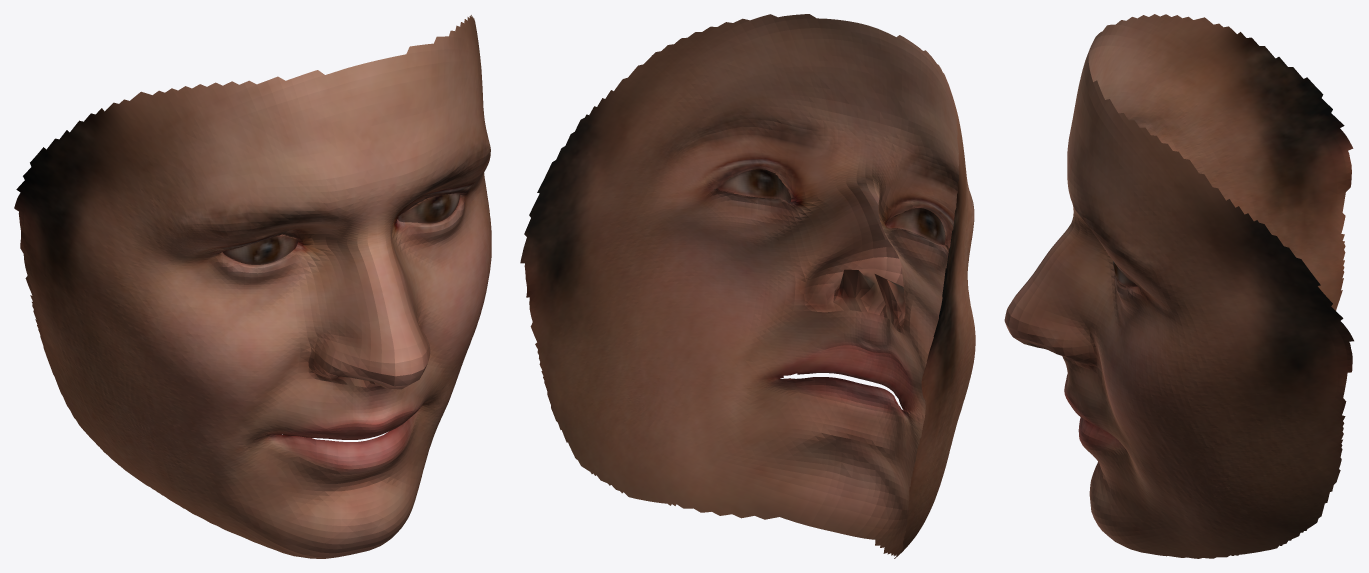
The model's file is generated.photos_v3_0000170_mesh.obj.
3 renders of one model, left to right at view 1: azimuth 30°, elevation 25°; view 2: azimuth 150°, elevation 25°; view 3: azimuth 270°, elevation 25°, orthographic. The views are drawn at different scales.
Size of the model in its own units: 1.46 by 1.68 by 1.11.
